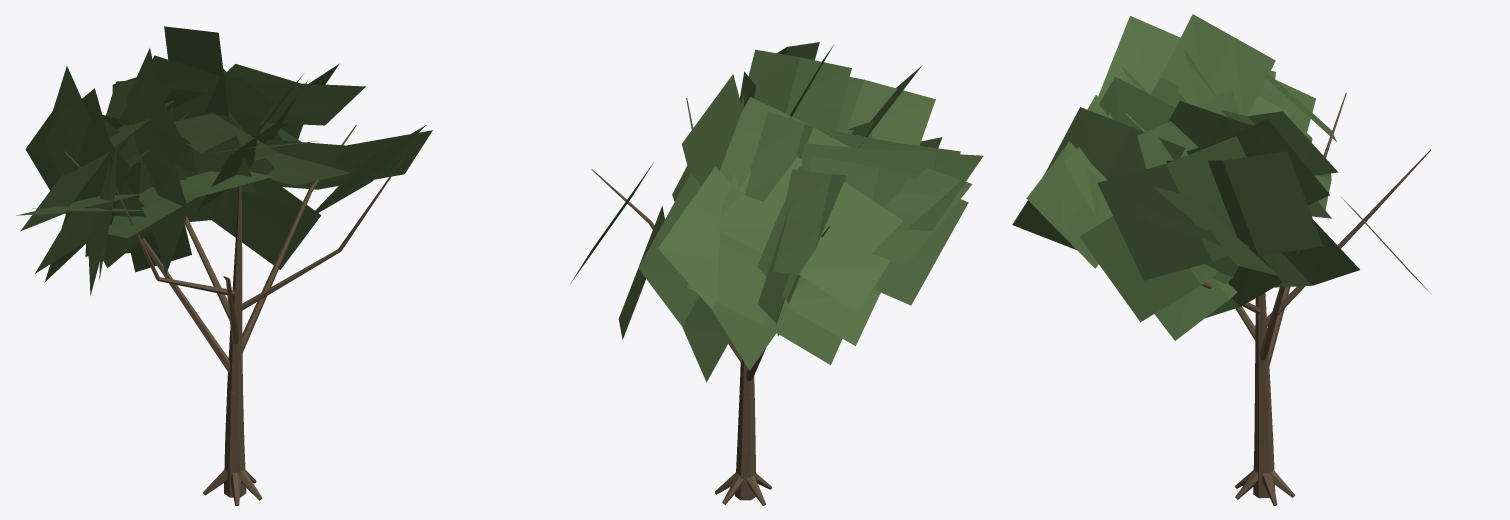
Rendered from medium_birch.glb.
The picture shows the model from 3 angles, left to right: view 1: azimuth 30°, elevation 25°; view 2: azimuth 150°, elevation 25°; view 3: azimuth 270°, elevation 25°; orthographic projection. The views are drawn at different scales.
Parts seen in each view (by area): view 1: world-scenery/medium_birch; view 2: world-scenery/medium_birch; view 3: world-scenery/medium_birch.
Part boxes in pixels (x1,y1,x2,y2): world-scenery/medium_birch: (16, 26, 432, 505); world-scenery/medium_birch: (570, 42, 983, 505); world-scenery/medium_birch: (1012, 14, 1430, 505).
Size of the model in its own units: 4.3 by 4.36 by 4.22.
